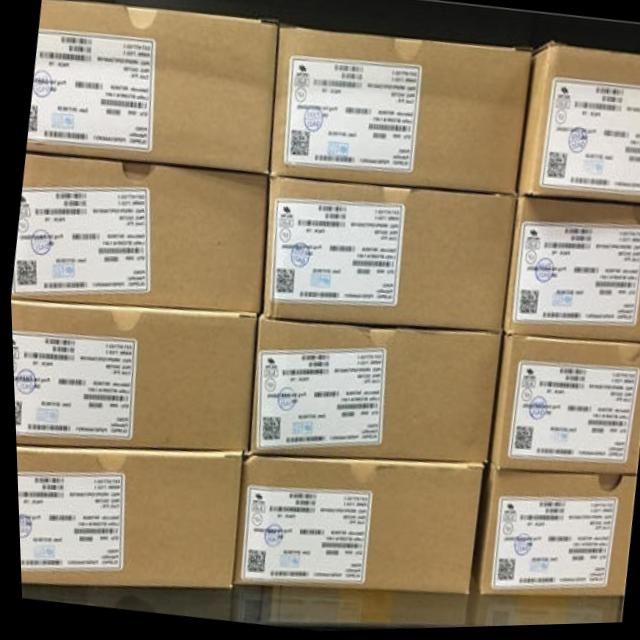box: (26, 0, 279, 181), (269, 28, 531, 199), (9, 154, 268, 316), (258, 179, 515, 335), (9, 298, 258, 457), (246, 315, 498, 467), (230, 457, 480, 594), (13, 442, 238, 589), (467, 465, 632, 602), (483, 335, 640, 474), (500, 198, 640, 350), (512, 47, 640, 206)
